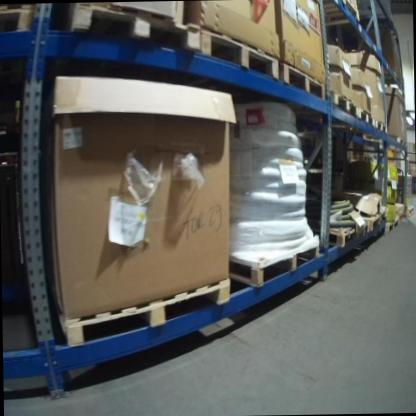pallet: (59, 275, 233, 348), (66, 1, 203, 56), (199, 25, 280, 83), (229, 242, 320, 288), (279, 60, 326, 101), (321, 0, 360, 27), (327, 227, 366, 249), (330, 90, 359, 117), (366, 209, 386, 231), (358, 108, 375, 127), (390, 134, 407, 148), (386, 216, 399, 233), (375, 119, 387, 133), (406, 204, 414, 217)
